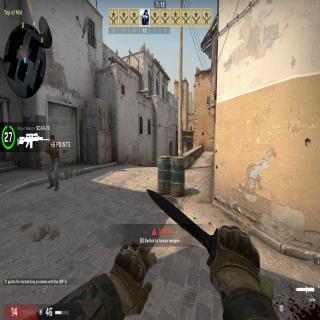T-Body: (46, 135, 60, 191)
T-Head: (50, 135, 55, 143)
